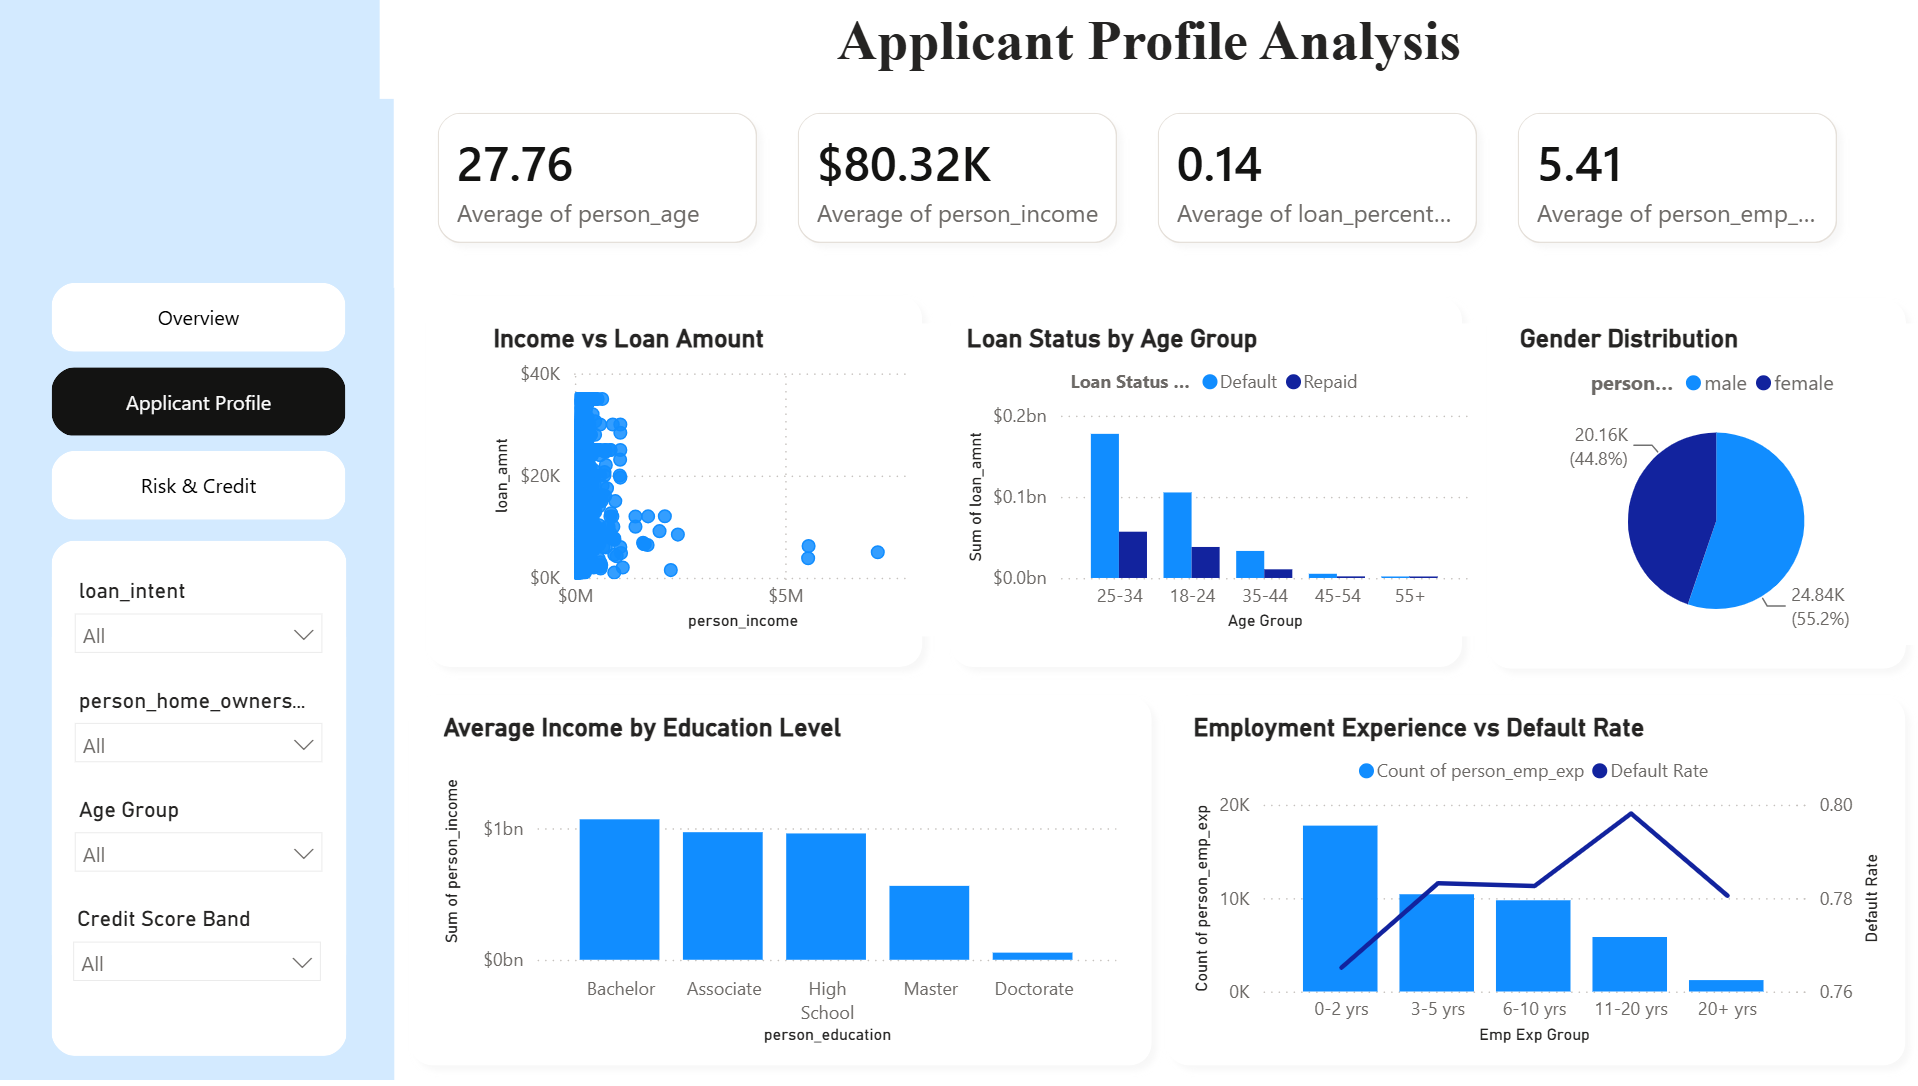

The dashboard page shown, as its layout file describes it:
{"tool":"powerbi","page":{"name":"Applicant  Profile","canvas":[1280,720],"ordinal":1},"visuals":[{"type":"shape","box":[769.2,455.1,510.4,264.1],"z":0},{"type":"shape","box":[264.1,455.1,512.2,264.1],"z":1000},{"type":"shape","box":[983.4,191,296.3,264.1],"z":2000},{"type":"shape","box":[624.7,189.2,358.7,264.1],"z":3000},{"type":"shape","box":[276.5,188.2,347.8,265.1],"z":4000},{"type":"scatterChart","title":"Income vs Loan Amount","fields":{"X":["loan_data.person_income"],"Y":["loan_data.loan_amnt"]},"box":[323.8,215.4,300.5,208.6],"z":5000},{"type":"clusteredColumnChart","title":"Loan Status by Age Group","fields":{"Category":["loan_data.Age Group"],"Y":["Sum(loan_data.loan_amnt)"],"Series":["loan_data.Loan Status Label"]},"box":[639.5,215.4,344.4,208.6],"z":6000},{"type":"pieChart","title":"Gender Distribution","fields":{"Category":["loan_data.person_gender"],"Y":["CountNonNull(loan_data.person_gender)"]},"box":[1008.4,216,271.3,214.2],"z":7000},{"type":"columnChart","title":"Average Income by Education Level","fields":{"Category":["loan_data.person_education"],"Y":["Sum(loan_data.person_income)"]},"box":[290.9,474.7,458.7,224.9],"z":8000},{"type":"lineStackedColumnComboChart","title":"Employment Experience vs Default Rate","fields":{"Category":["loan_data.Emp Exp Group"],"Y":["CountNonNull(loan_data.person_emp_exp)"],"Y2":["loan_data.Default Rate"]},"box":[790.6,474.7,467.6,224.9],"z":9000},{"type":"shape","box":[0,0,262.9,720],"z":10000},{"type":"cardVisual","fields":{"Data":["Avg(loan_data.person_age)","Avg(loan_data.person_income)","Avg(loan_data.loan_percent_income)","Avg(loan_data.person_emp_exp)"]},"box":[262.9,45.7,994.3,145.7],"z":11000},{"type":"shape","box":[34.2,360.6,196.7,343.5],"z":12000},{"type":"pageNavigator","box":[34.2,188.2,196.7,158.2],"z":13000},{"type":"slicer","fields":{"Values":["loan_data.loan_intent"]},"box":[39.9,380.6,185.3,72.7],"z":14000},{"type":"slicer","fields":{"Values":["loan_data.person_home_ownership"]},"box":[39.9,453.3,185.3,72.7],"z":15000},{"type":"slicer","fields":{"Values":["loan_data.Age Group"]},"box":[39.9,526,185.3,72.7],"z":16000},{"type":"slicer","fields":{"Values":["loan_data.Credit Score Band"]},"box":[38.5,598.7,185.3,72.7],"z":17000},{"type":"textbox","box":[252.9,0,1025.7,65.7],"z":18000}]}

Visuals, with their boxes on the page's 1280x720 design canvas (x1, y1, x2, y2). These are canvas units, not pixel positions in the 1918x1086 screenshot, which may show the page scaled, cropped or inside an application window:
shape: <region>769, 455, 1280, 719</region>
shape: <region>264, 455, 776, 719</region>
shape: <region>983, 191, 1280, 455</region>
shape: <region>625, 189, 983, 453</region>
shape: <region>276, 188, 624, 453</region>
"Income vs Loan Amount" scatterChart: <region>324, 215, 624, 424</region>
"Loan Status by Age Group" clusteredColumnChart: <region>640, 215, 984, 424</region>
"Gender Distribution" pieChart: <region>1008, 216, 1280, 430</region>
"Average Income by Education Level" columnChart: <region>291, 475, 750, 700</region>
"Employment Experience vs Default Rate" lineStackedColumnComboChart: <region>791, 475, 1258, 700</region>
shape: <region>0, 0, 263, 720</region>
cardVisual - Avg(loan_data.person_age) x Avg(loan_data.person_income): <region>263, 46, 1257, 191</region>
shape: <region>34, 361, 231, 704</region>
pageNavigator: <region>34, 188, 231, 346</region>
slicer - loan_data.loan_intent: <region>40, 381, 225, 453</region>
slicer - loan_data.person_home_ownership: <region>40, 453, 225, 526</region>
slicer - loan_data.Age Group: <region>40, 526, 225, 599</region>
slicer - loan_data.Credit Score Band: <region>38, 599, 224, 671</region>
textbox: <region>253, 0, 1279, 66</region>
